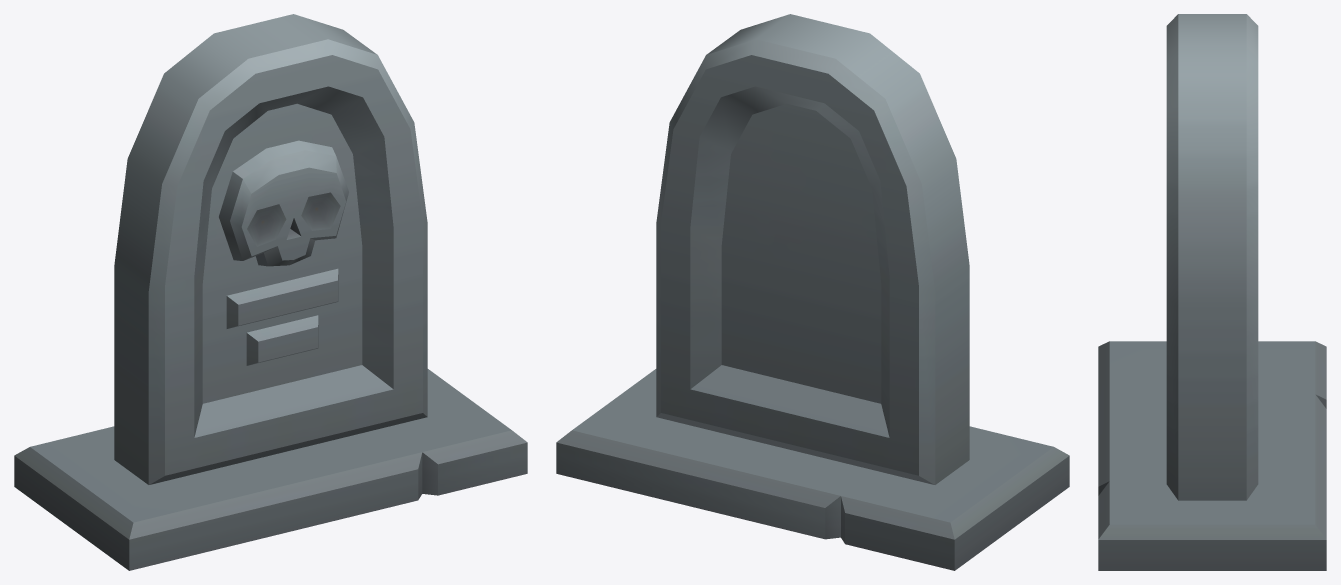
The model's file is grave_a.glb.
The picture shows the model from 3 angles, left to right: view 1: azimuth 30°, elevation 25°; view 2: azimuth 150°, elevation 25°; view 3: azimuth 270°, elevation 25°; orthographic projection.
Parts seen in each view (by area): view 1: grave_A; view 2: grave_A; view 3: grave_A.
Boxes of the visible parts, <box> form: grave_A: <box>14,14,527,570</box>; grave_A: <box>556,14,1069,570</box>; grave_A: <box>1098,14,1326,570</box>.
Bounding box in the file's own units: 2 × 2.13 × 0.9999.
1 material, 1 textured.
